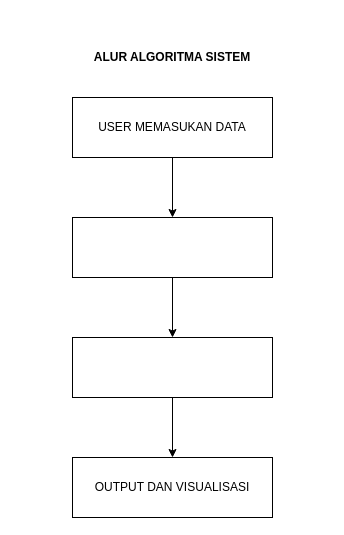
The diagram is 344 pixels wide and 535 high, and some of its shapes have lost their labels. The shapes that lost their labels are listed below. From the top down, each one's box as (x1, y1, x2, y2) in pixels, then its label:
(72, 216, 272, 278): ALOKASI MENGGUNAKAN KNN
(72, 336, 272, 398): TAHAP RUTE: ANT COLONY OPTIMZION
